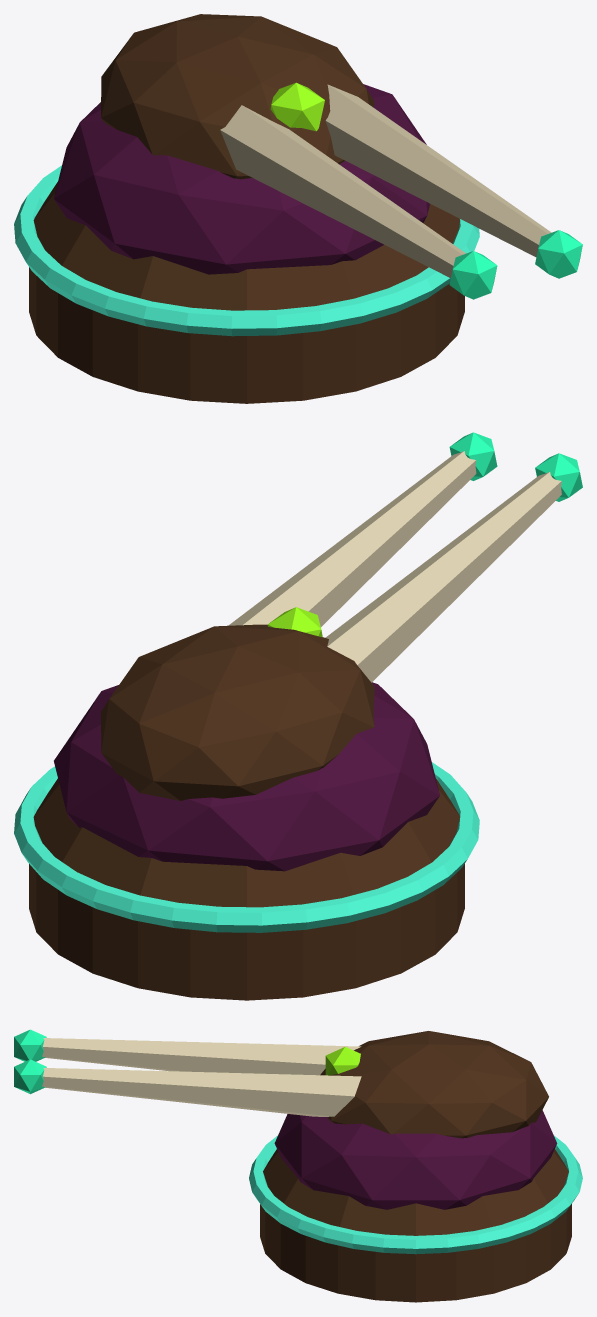
The model's file is turret.obj.
3 renders of one model, top to bottom at view 1: azimuth 30°, elevation 25°; view 2: azimuth 150°, elevation 25°; view 3: azimuth 270°, elevation 25°, orthographic. The views are drawn at different scales.
Parts seen in each view (by area): view 1: turret; view 2: turret; view 3: turret.
Boxes of the visible parts, x1,y1,x2,y2 form: turret: (14, 14, 582, 403); turret: (14, 432, 582, 1000); turret: (14, 1029, 582, 1302).
Bounding box in the file's own units: 23.49 × 14.91 × 40.
Materials: 1 (1 with a texture image).
